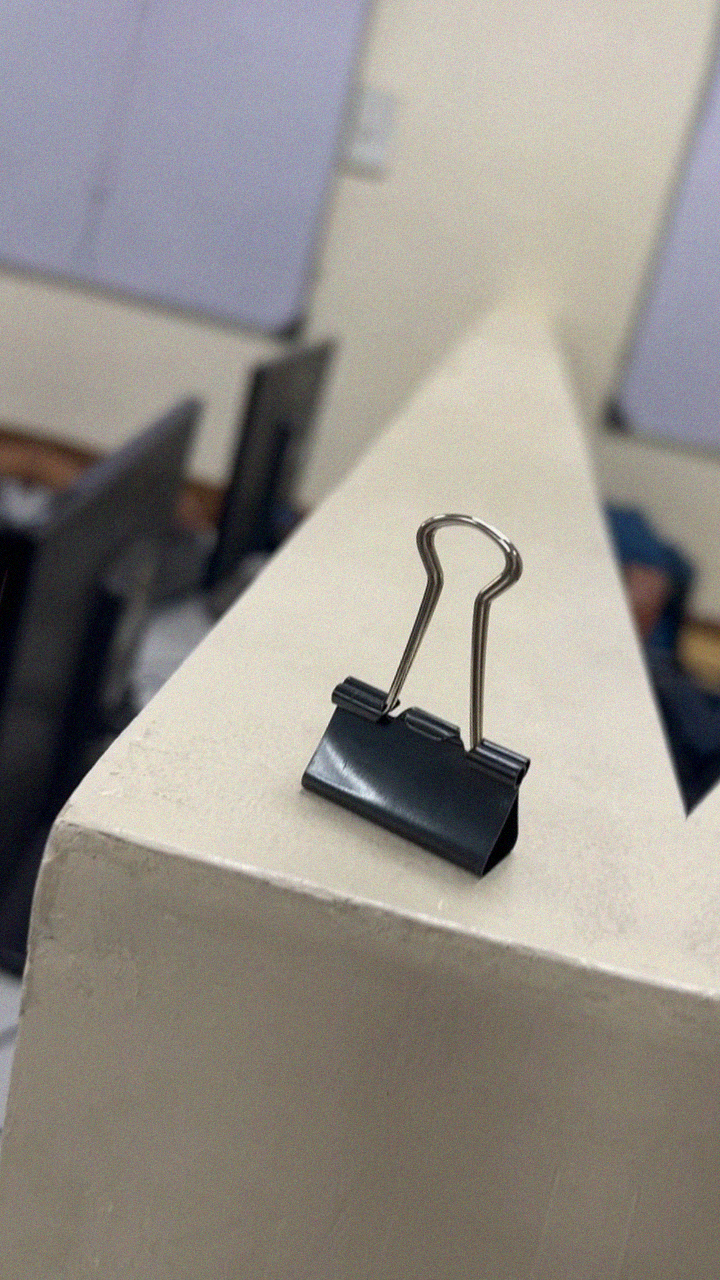kep_giay: (286, 486, 596, 882)
